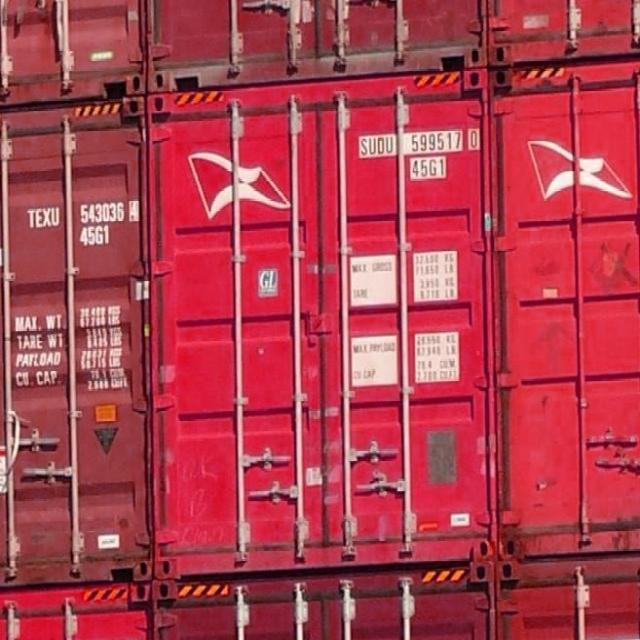ISO: (409, 159, 451, 181)
container_number: (358, 130, 478, 157)
